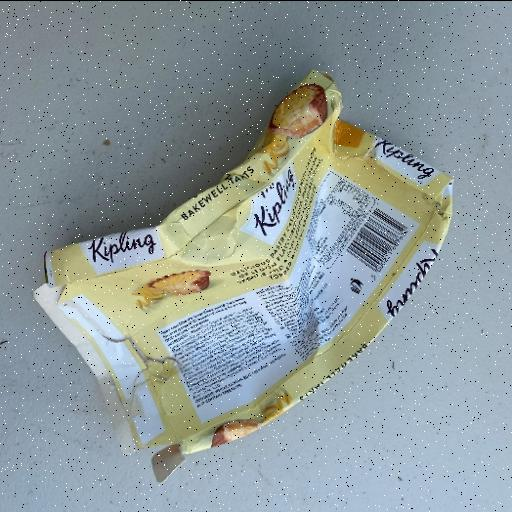Cardboard: (32, 68, 456, 482)
